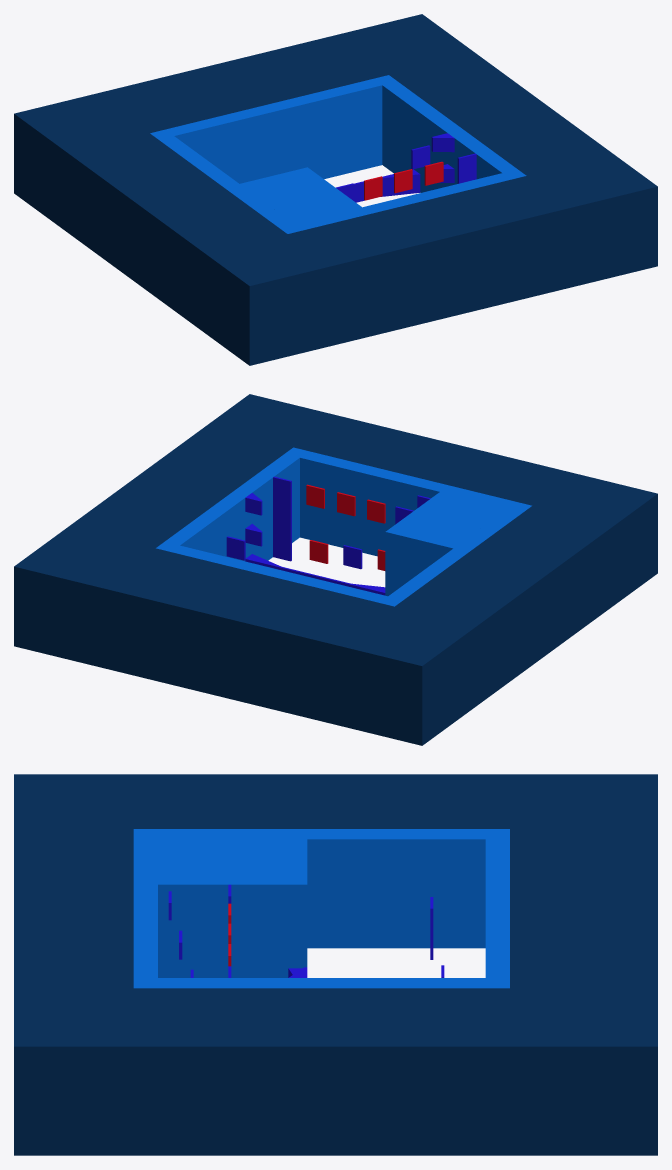
File: FaceB.glb
3 renders of one model, top to bottom at view 1: azimuth 30°, elevation 25°; view 2: azimuth 150°, elevation 25°; view 3: azimuth 270°, elevation 25°, orthographic. The views are drawn at different scales.
Visible parts, largest first — view 1: paredeTRUETRUE-col.002, PlanoTrue-col, plataforma_frente-col.024, plataforma_frente-col.014; view 2: paredeTRUETRUE-col.002, PlanoTrue-col, plataforma_frente-col.014, plataforma_frente-col.021; view 3: paredeTRUETRUE-col.002, PlanoTrue-col.
Part boxes in pixels (x1=…): paredeTRUETRUE-col.002: x1=14, y1=14, x2=657, y2=365; PlanoTrue-col: x1=150, y1=75, x2=526, y2=233; plataforma_frente-col.024: x1=354, y1=169, x2=420, y2=202; plataforma_frente-col.014: x1=457, y1=153, x2=476, y2=183; paredeTRUETRUE-col.002: x1=14, y1=394, x2=657, y2=745; PlanoTrue-col: x1=156, y1=447, x2=531, y2=606; plataforma_frente-col.014: x1=273, y1=476, x2=291, y2=561; plataforma_frente-col.021: x1=245, y1=554, x2=385, y2=595; paredeTRUETRUE-col.002: x1=14, y1=774, x2=657, y2=1155; PlanoTrue-col: x1=133, y1=829, x2=509, y2=988.
Bounding box in the file's own units: 509 × 95 × 509.
